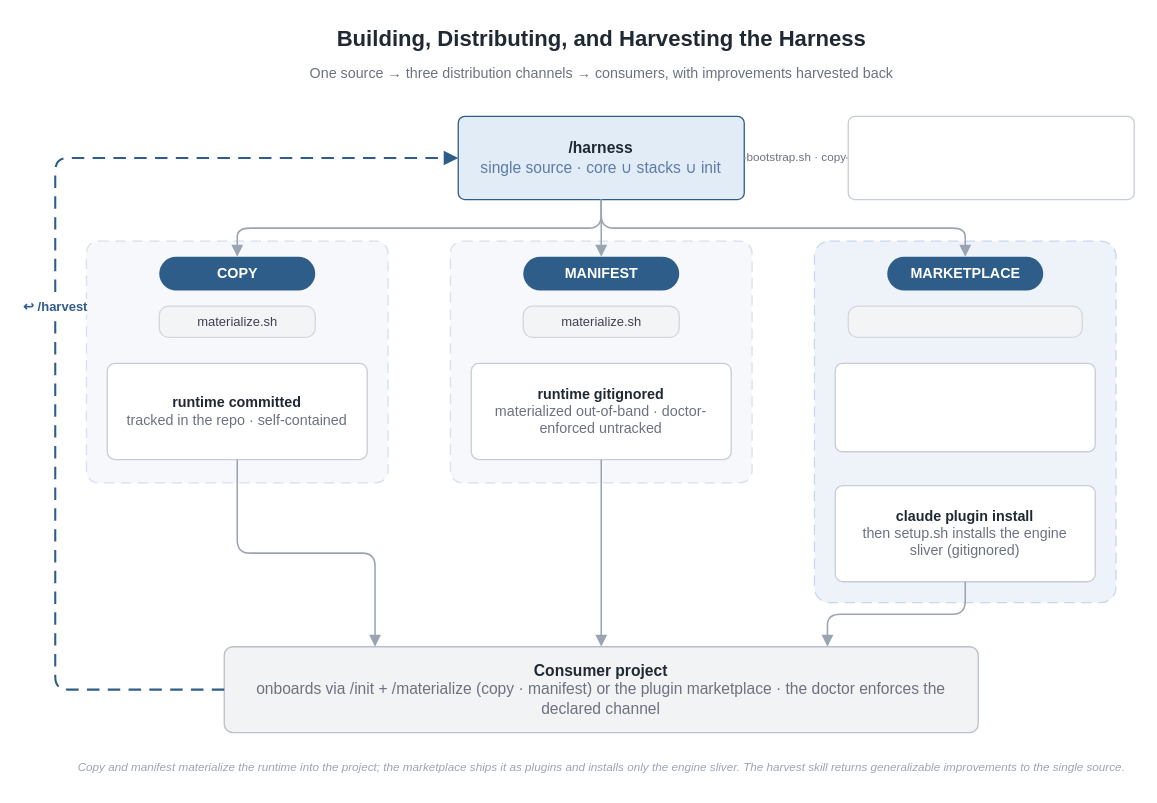
Some shapes in this 1157 by 803 pixel diagram are drawn without their labels. The centre of each missing label's shape, as x and y in pixels:
"6 per-tool plugins rendered under .claude-plugin/marketplace.json" goes at point (964, 407).
"package-marketplace.sh" goes at point (964, 321).
"samples/ go · java-spring-boot — dogfood + test bed" goes at point (990, 157).
